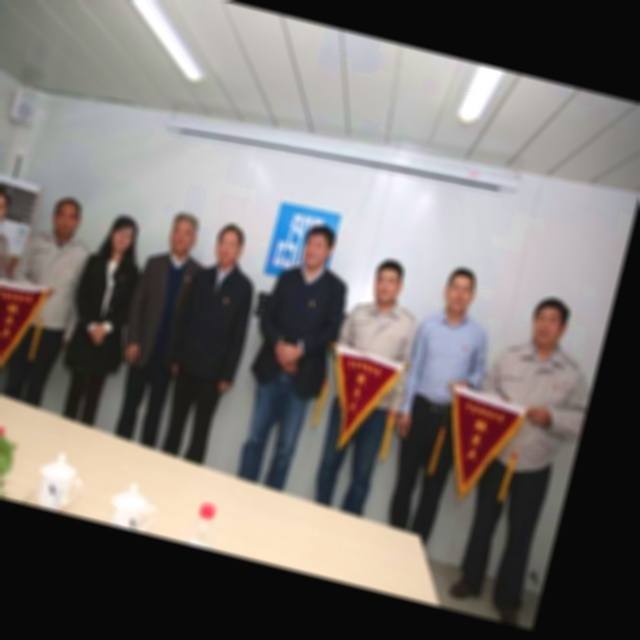Sin_Casco_Mascarrilla: (525, 292, 575, 351), (440, 264, 481, 318), (368, 255, 409, 308), (210, 219, 249, 271), (300, 221, 341, 269), (165, 208, 203, 257)
